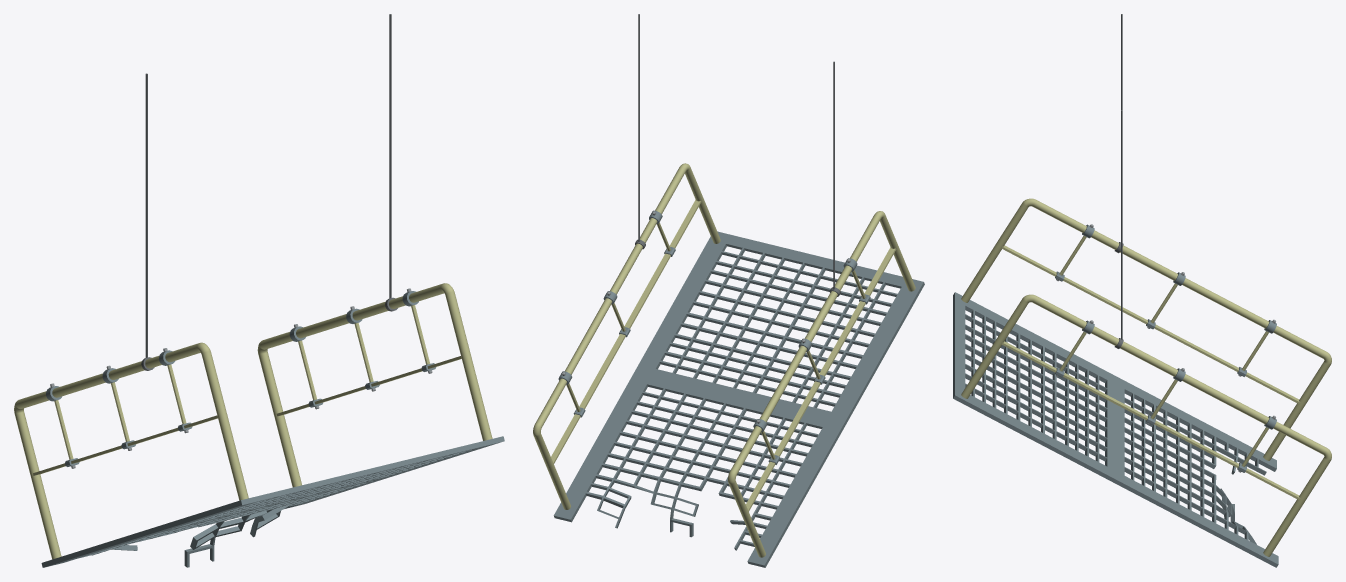
The model's file is Floating_Wakway_Broken1.fbx.
3 renders of one model, left to right at view 1: azimuth 30°, elevation 25°; view 2: azimuth 150°, elevation 25°; view 3: azimuth 270°, elevation 25°, orthographic. The views are drawn at different scales.
Visible parts, largest first — view 1: pCube42, pCylinder64, pCylinder65; view 2: pCube42; view 3: pCube42.
Part boxes in pixels (x1,y1,x2,y2): pCube42: (14,283,504,567); pCylinder64: (145,73,147,357); pCylinder65: (389,14,391,298); pCube42: (533,163,924,567); pCube42: (953,198,1331,567).
Bounding box in the file's own units: 1.31 × 2.72 × 2.03.
